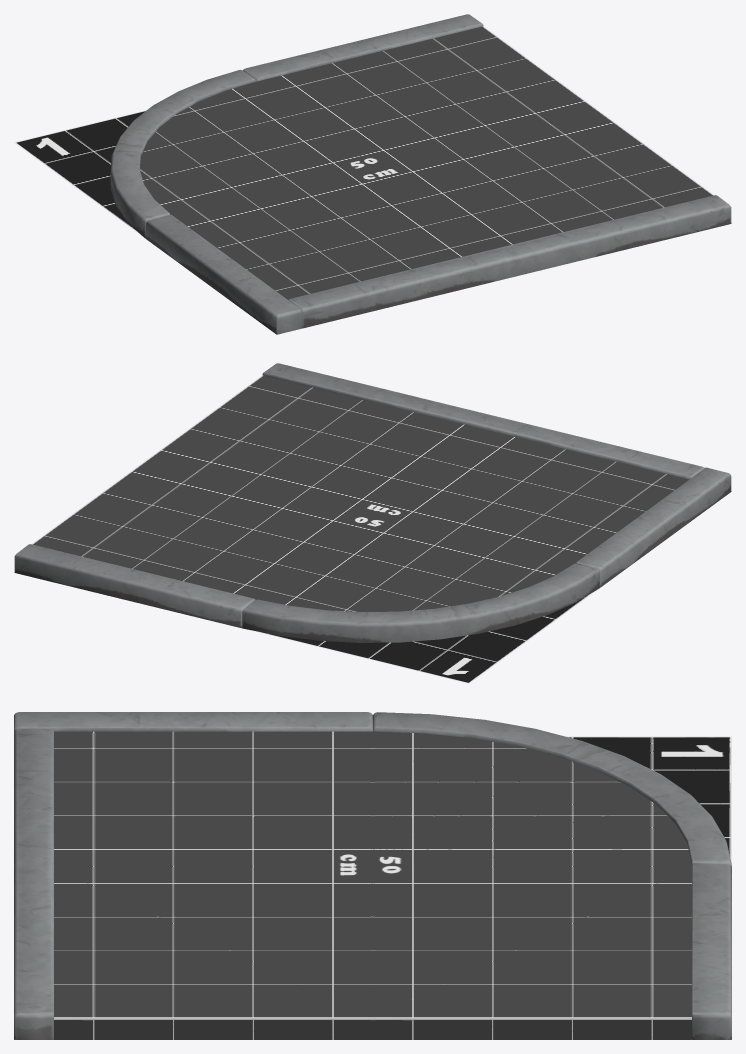
File: M02SideWalk04_5.FBX
3 renders of one model, top to bottom at view 1: azimuth 30°, elevation 25°; view 2: azimuth 150°, elevation 25°; view 3: azimuth 270°, elevation 25°, orthographic. The views are drawn at different scales.
Parts seen in each view (by area): view 1: M02SideWalk04_5; view 2: M02SideWalk04_5; view 3: M02SideWalk04_5.
Boxes of the visible parts, <box> form: M02SideWalk04_5: <box>14,14,731,334</box>; M02SideWalk04_5: <box>14,363,731,683</box>; M02SideWalk04_5: <box>14,712,731,1039</box>.
Size of what is drawn, in the model's own units: 4.5 by 0.1783 by 4.5.
